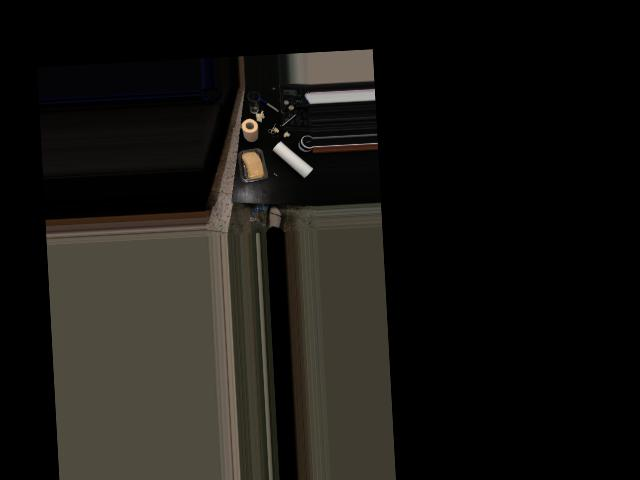cheese: (236, 146, 269, 186)
